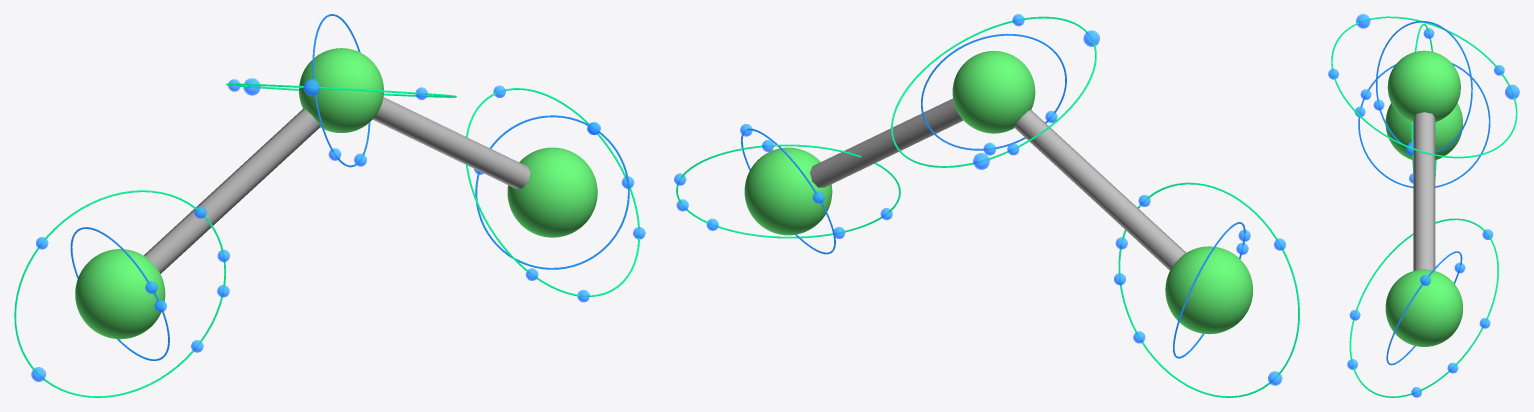
The picture shows the model from 3 angles, left to right: view 1: azimuth 30°, elevation 25°; view 2: azimuth 150°, elevation 25°; view 3: azimuth 270°, elevation 25°; orthographic projection. The views are drawn at different scales.
Visible parts, largest first — view 1: O (×2), object 54, C, object 55, object 22, object 41, object 36, object 7, object 17, object 2; view 2: O (×2), C, object 54, object 55, object 22, object 7, object 41, object 2, object 36; view 3: O (×2), C, object 55, object 7, object 41, object 2, object 17, object 36, object 22, object 15.
Boxes of the visible parts, x1,y1,x2,y2 form: O (×2): (75, 147, 597, 339); object 54: (144, 108, 320, 273); C: (299, 48, 383, 132); object 55: (373, 97, 530, 188); object 22: (14, 190, 225, 397); object 41: (466, 88, 639, 296); object 36: (475, 115, 629, 269); object 7: (226, 83, 456, 97); object 17: (70, 227, 169, 360); object 2: (312, 14, 370, 167); O (×2): (744, 147, 1252, 334); C: (952, 51, 1035, 133); object 54: (1014, 110, 1186, 270); object 55: (809, 98, 963, 187); object 22: (1118, 182, 1299, 397); object 7: (891, 16, 1096, 167); object 41: (676, 144, 900, 238); object 2: (921, 33, 1066, 150); object 36: (741, 128, 835, 254); O (×2): (1385, 103, 1462, 346); C: (1387, 50, 1460, 121); object 55: (1413, 112, 1435, 270); object 7: (1331, 16, 1517, 158); object 41: (1349, 218, 1498, 397); object 2: (1376, 21, 1472, 152); object 17: (1358, 62, 1490, 187); object 36: (1386, 251, 1462, 365); object 22: (1411, 23, 1436, 179); object 15: (1505, 84, 1519, 99).
Bounding box in the file's own units: 11.42 × 5.58 × 3.5.
